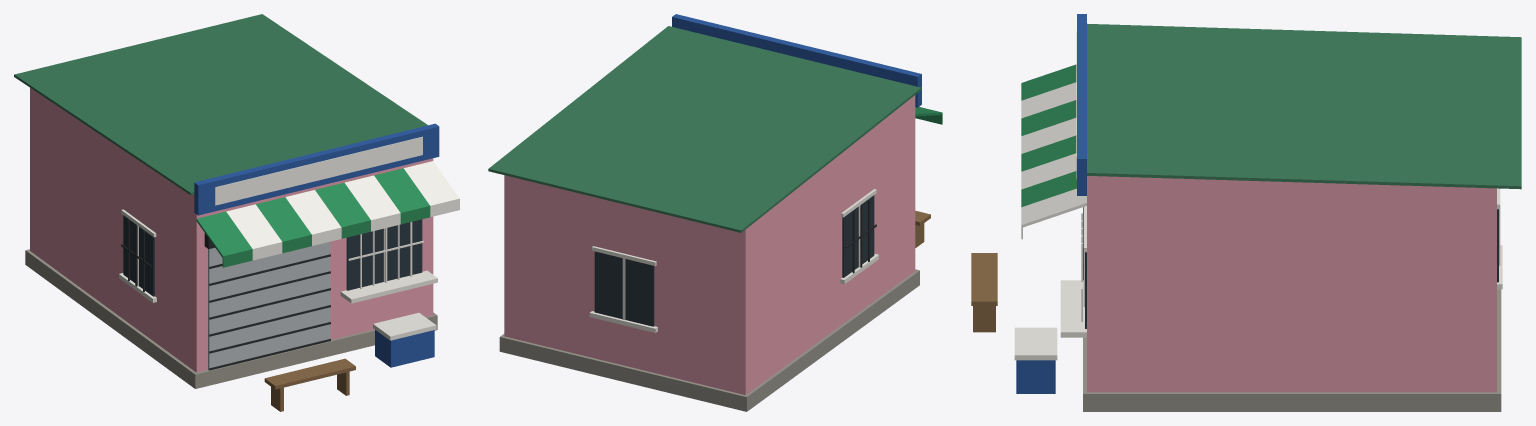
Rendered from BAY_F_Shop_I.glb.
The picture shows the model from 3 angles, left to right: view 1: azimuth 30°, elevation 25°; view 2: azimuth 150°, elevation 25°; view 3: azimuth 270°, elevation 25°; orthographic projection. The views are drawn at different scales.
Visible parts, largest first — view 1: BAY_F_Shop_I; view 2: BAY_F_Shop_I; view 3: BAY_F_Shop_I.
Boxes of the visible parts, x1=… form: BAY_F_Shop_I: x1=14, y1=14, x2=459, y2=411; BAY_F_Shop_I: x1=488, y1=14, x2=942, y2=411; BAY_F_Shop_I: x1=971, y1=14, x2=1521, y2=411.
Size of the model in its own units: 4.3 by 3.4 by 6.71.
Materials: 1 (1 with a texture image).
